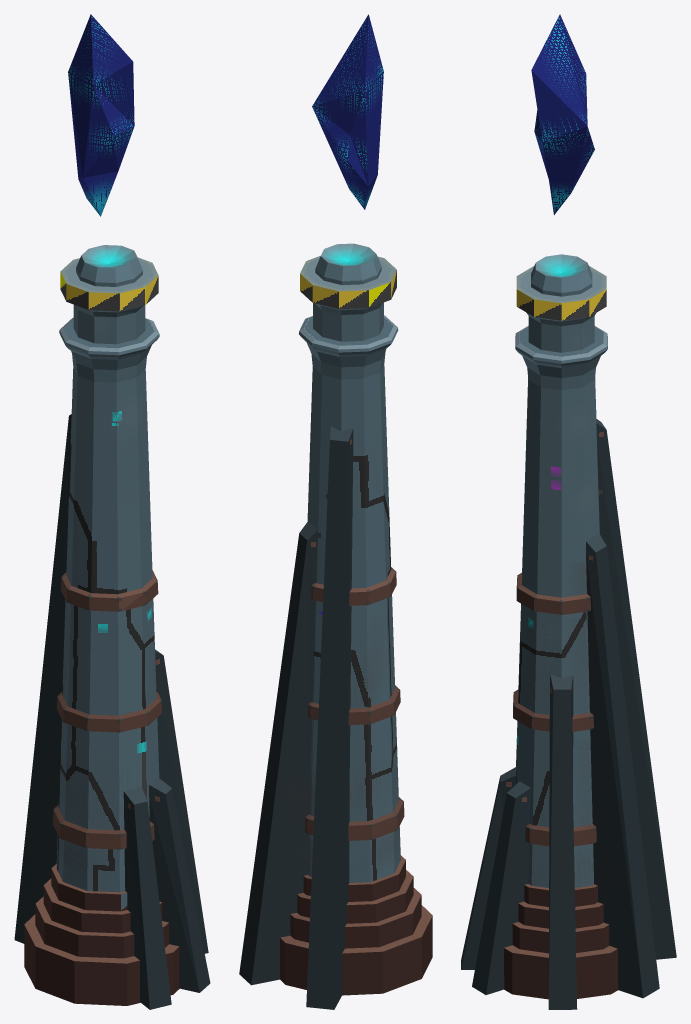
File: chrono_tower_3.gltf
3 renders of one model, left to right at view 1: azimuth 30°, elevation 25°; view 2: azimuth 150°, elevation 25°; view 3: azimuth 270°, elevation 25°, orthographic. The views are drawn at different scales.
Parts seen in each view (by area): view 1: Crystal_Lighthouse_001_lambert1_0; view 2: Crystal_Lighthouse_001_lambert1_0; view 3: Crystal_Lighthouse_001_lambert1_0.
Part boxes in pixels (x1,y1,x2,y2): Crystal_Lighthouse_001_lambert1_0: [14, 14, 210, 1009]; Crystal_Lighthouse_001_lambert1_0: [239, 14, 432, 1009]; Crystal_Lighthouse_001_lambert1_0: [461, 14, 676, 1009].
Size of the model in its own units: 11.45 by 63.15 by 13.1.
Materials: 1 (1 with a texture image).
